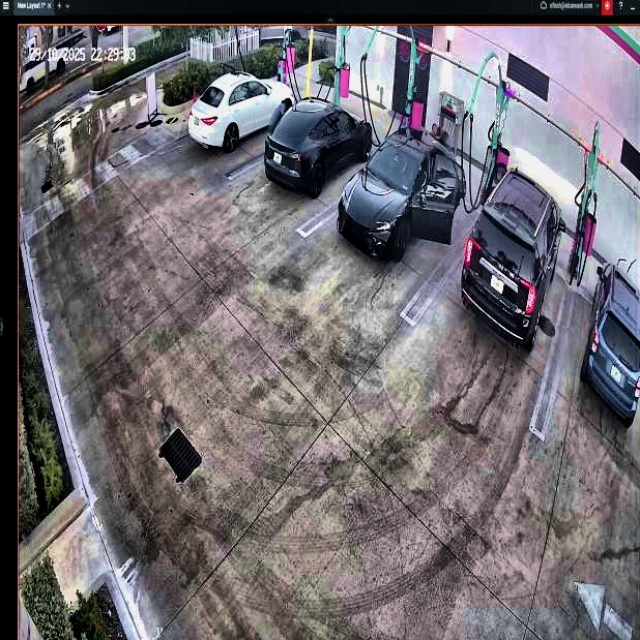Car: (462, 170, 565, 352), (337, 131, 466, 263), (265, 98, 374, 194), (189, 74, 295, 149)
